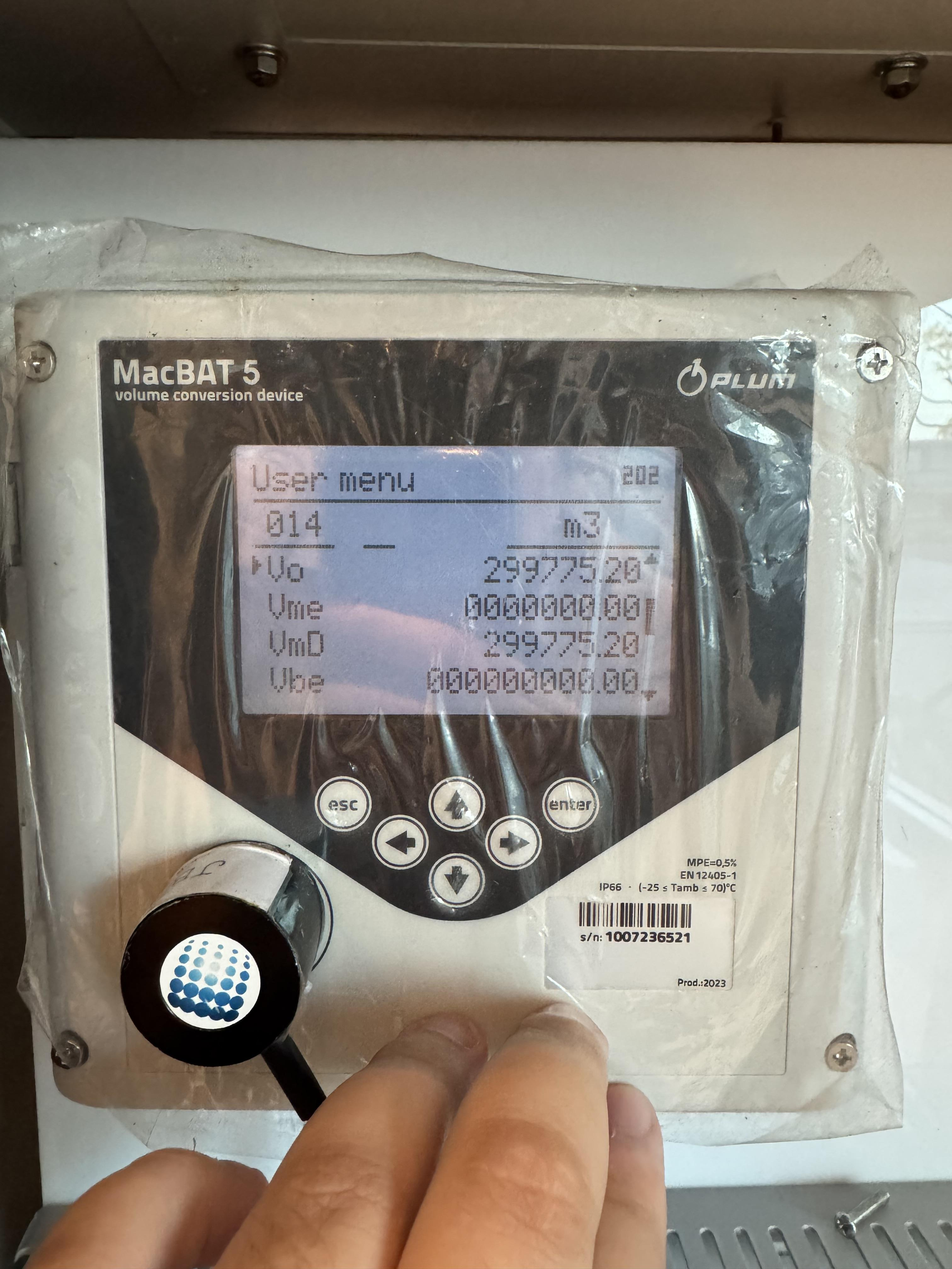digital_screen: (231, 446, 682, 717)
